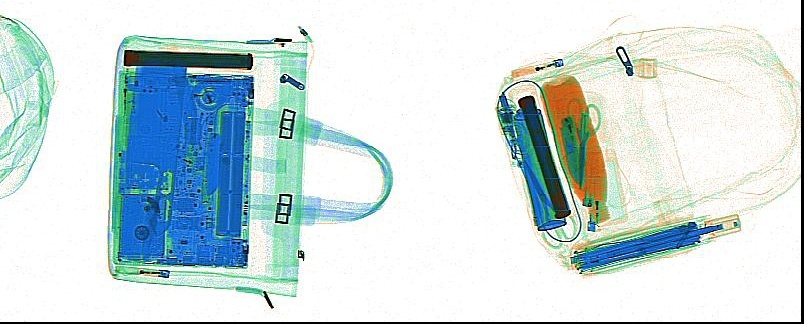knife: (125, 52, 188, 238), (558, 112, 584, 184), (171, 73, 197, 134), (205, 131, 226, 195)
lighter: (552, 96, 578, 156), (580, 149, 603, 208), (510, 56, 565, 78), (585, 173, 603, 232), (113, 265, 170, 279)
pressure: (506, 80, 567, 231)
scissors: (521, 158, 578, 250), (564, 96, 601, 192)
